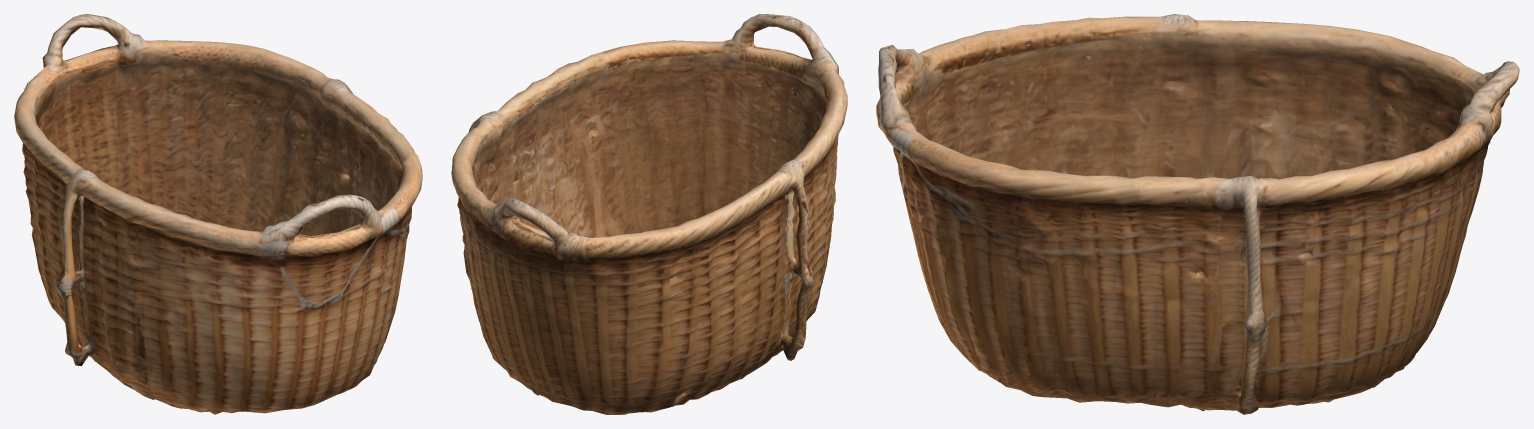
The picture shows the model from 3 angles, left to right: view 1: azimuth 30°, elevation 25°; view 2: azimuth 150°, elevation 25°; view 3: azimuth 270°, elevation 25°; orthographic projection. The views are drawn at different scales.
Parts seen in each view (by area): view 1: Mesh1; view 2: Mesh1; view 3: Mesh1.
Boxes of the visible parts, x1,y1,x2,y2 form: Mesh1: (14, 14, 422, 414); Mesh1: (451, 14, 847, 414); Mesh1: (876, 14, 1519, 414).
Size of the model in its own units: 145 by 104 by 199.
Materials: 1 (1 with a texture image).
